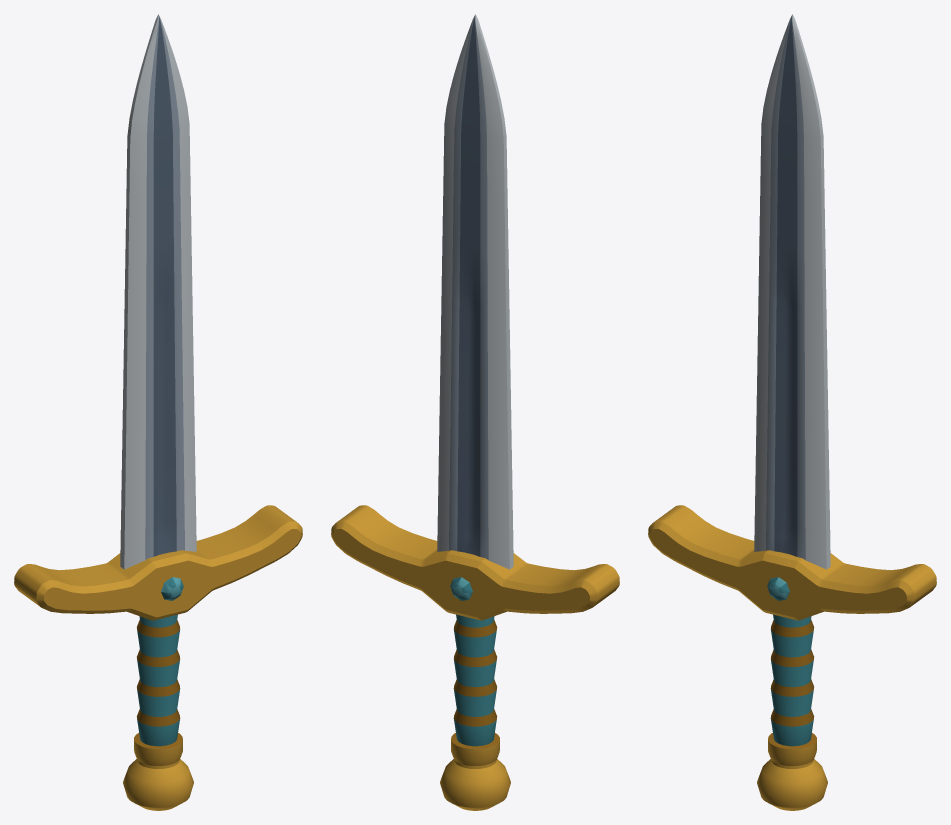
Rendered from Longsword_08.glb.
3 views of the same model, side by side, from view 1: azimuth 30°, elevation 25°; view 2: azimuth 150°, elevation 25°; view 3: azimuth 330°, elevation 25° (orthographic).
Parts seen in each view (by area): view 1: Longsword_08; view 2: Longsword_08; view 3: Longsword_08.
Boxes of the visible parts, x1=… form: Longsword_08: x1=14, y1=14, x2=302, y2=810; Longsword_08: x1=331, y1=14, x2=619, y2=810; Longsword_08: x1=648, y1=14, x2=936, y2=810.
Bounding box in the file's own units: 2.49 × 7.04 × 0.576.
